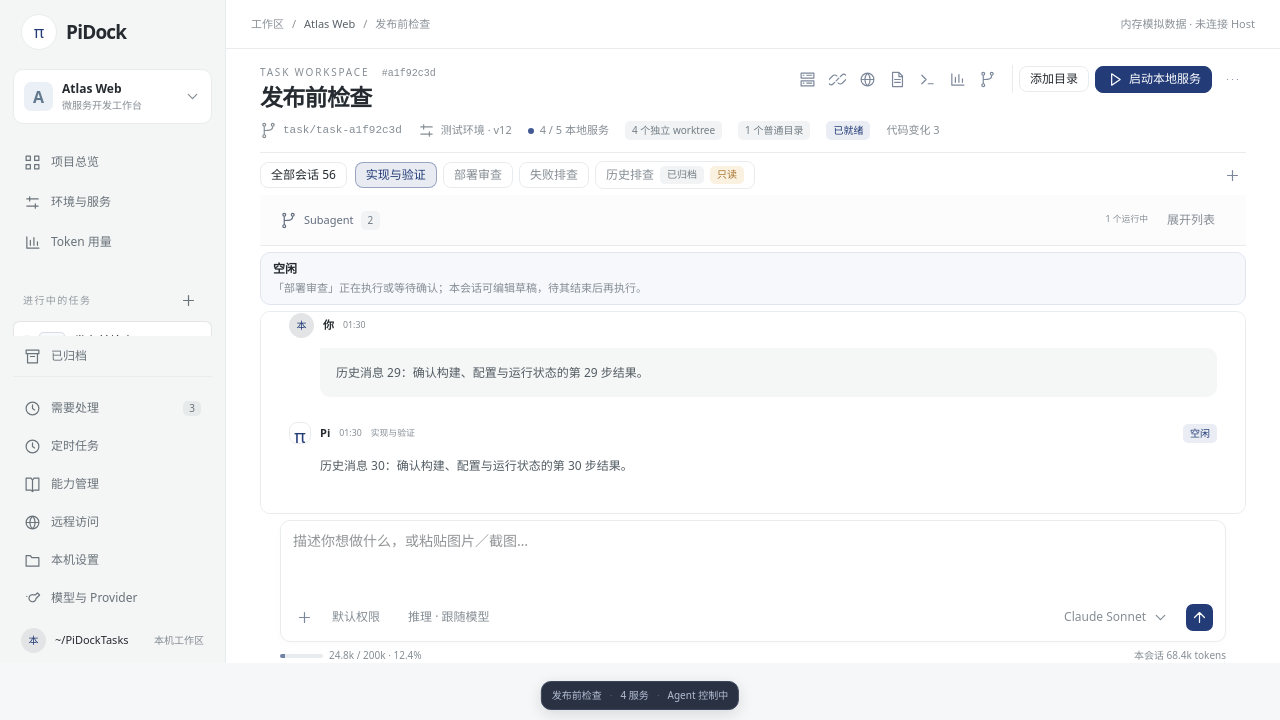
Test case: #15 terminal panel on the real channel › sends a wider window as the bridge's own resize action and re-reads the Host's state
(page scrolled)
expect the heading "发布前检查" is shown: met, box [260,81,372,113]
Click the button named "终端": point(928, 79) [914,65,942,93]
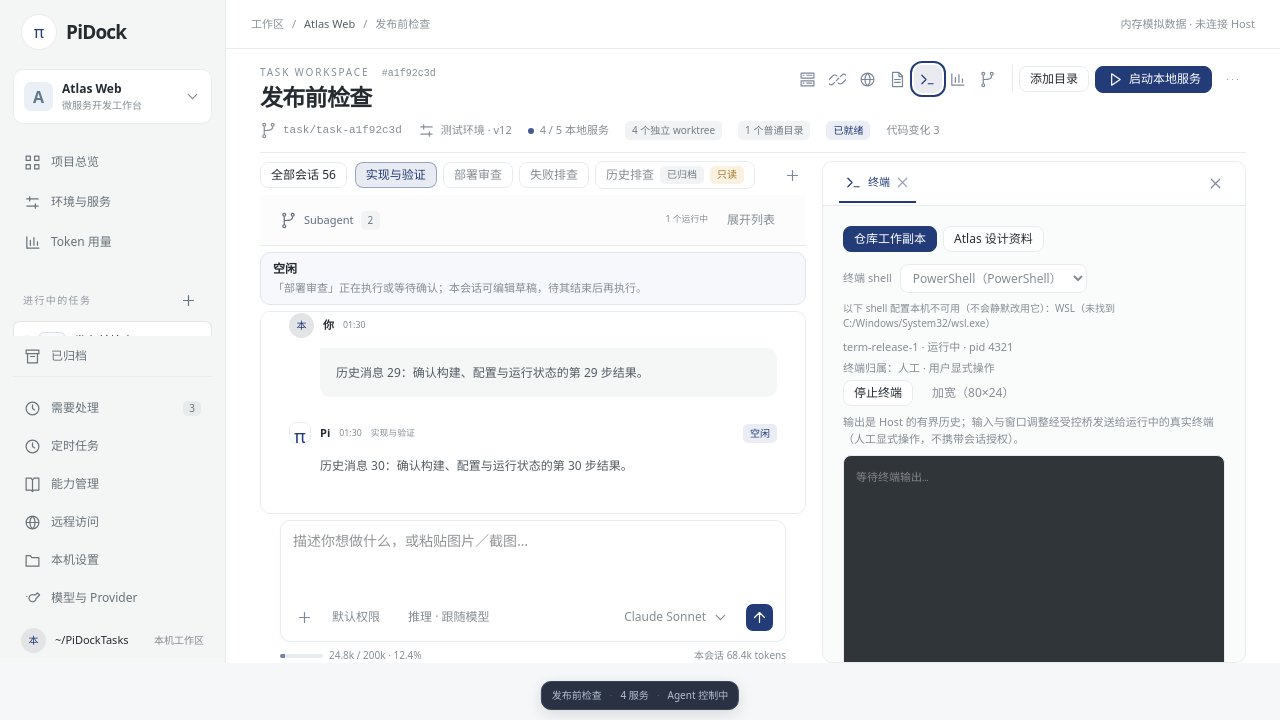
Click the button "加宽（80×24）": point(973, 393) [921,380,1025,406]
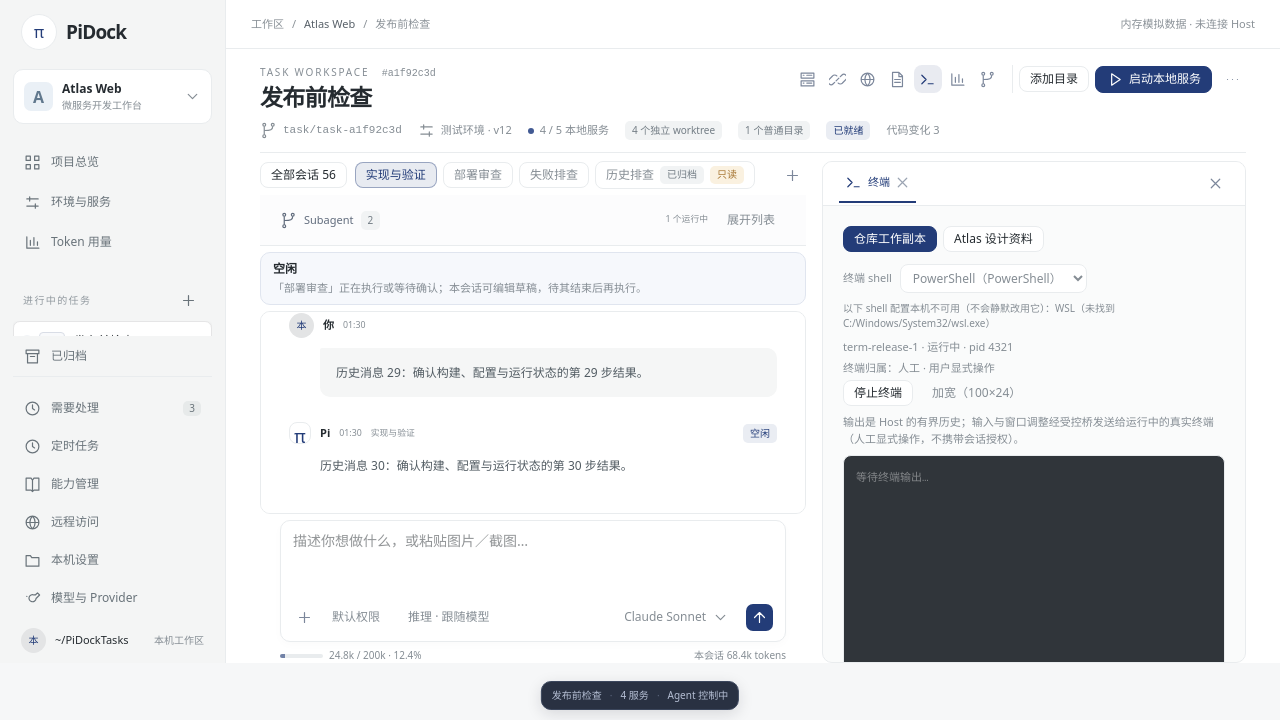
expect the element with test id "terminal-instance" shows "100×24": met, box [843,339,1032,406]
